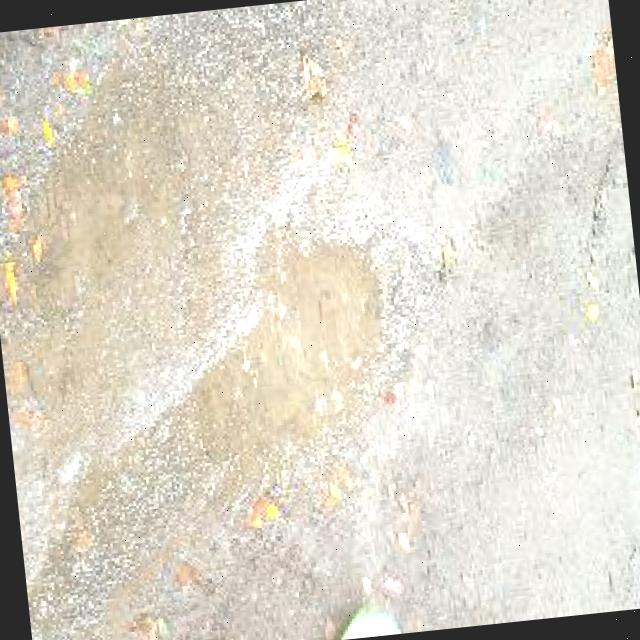stagnation: (19, 204, 446, 536)
